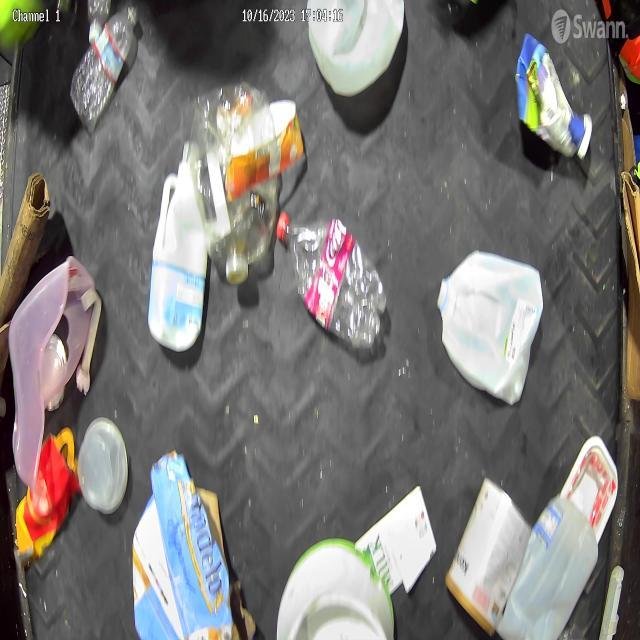milk_jug: (436, 238, 544, 406), (504, 474, 604, 640), (146, 154, 210, 362), (306, 0, 406, 110)
plastic_bottle: (178, 88, 284, 282), (275, 200, 389, 347), (70, 6, 136, 131)
